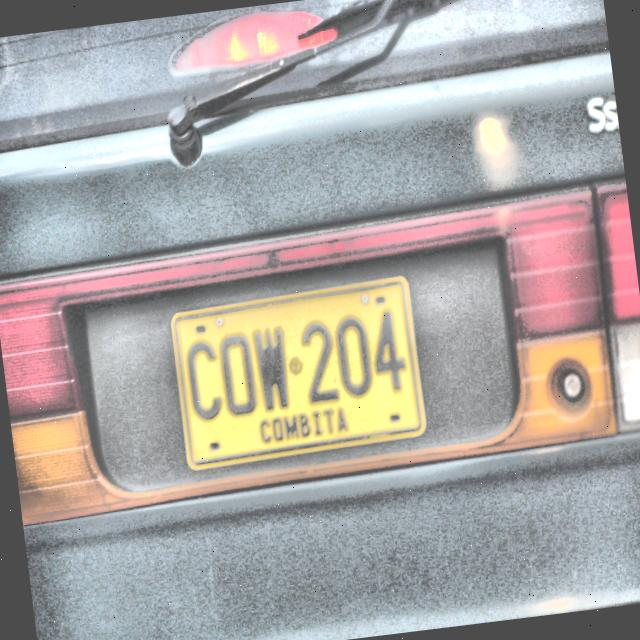0: (331, 311, 376, 404)
2: (296, 318, 342, 407)
4: (366, 306, 410, 394)
C: (182, 335, 225, 424)
O: (214, 330, 260, 420)
W: (250, 324, 293, 414)
